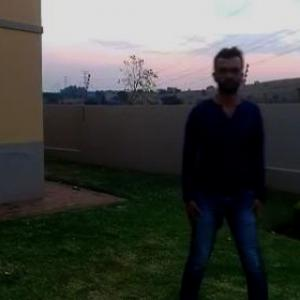follow: (176, 42, 257, 299)
